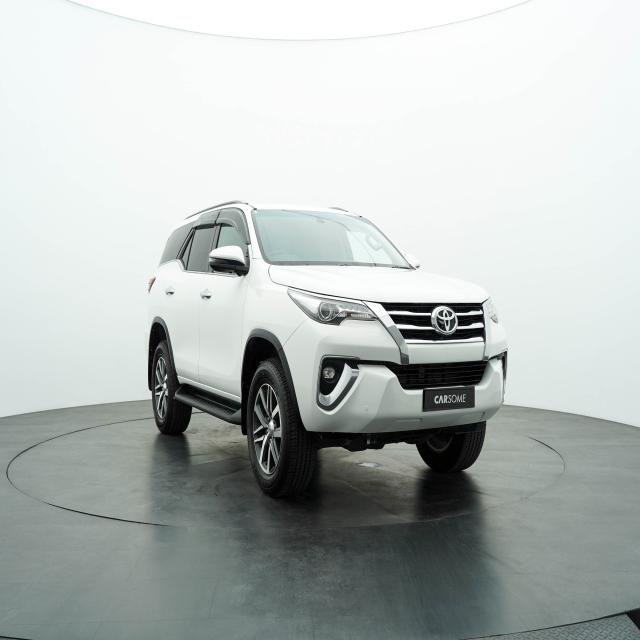light_vehicle: (147, 200, 508, 498)
